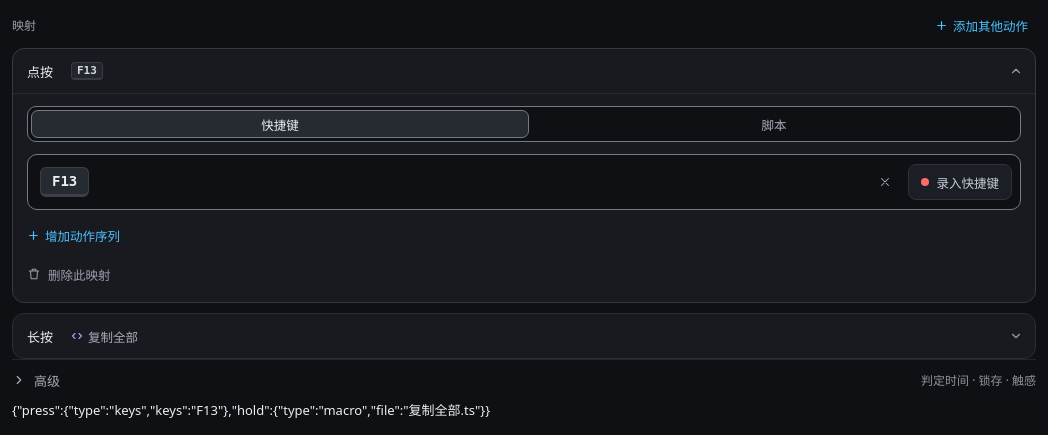
Test: only keeps one mapping open and lets the user close it
Click the button "长按 复制全部" at (113, 337), box [13, 314, 1035, 358]
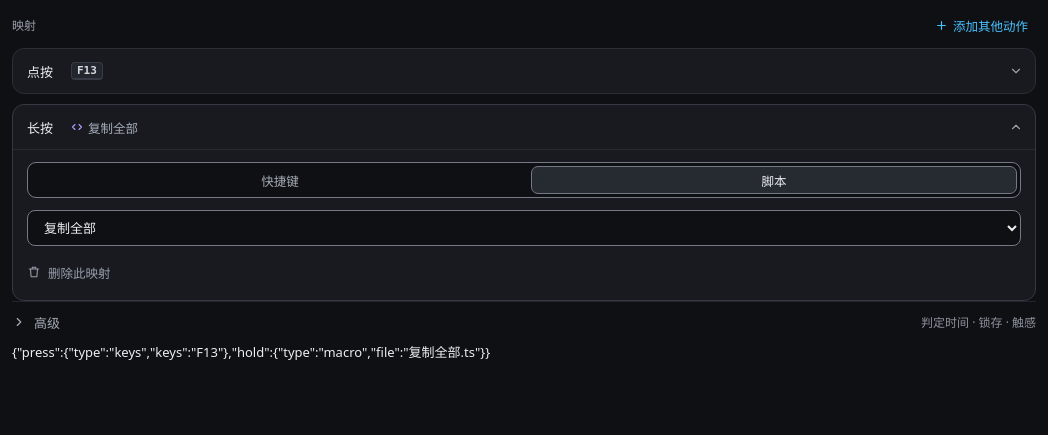
Expected: the number of elements with test id "action-type" is 1, [27, 162, 1021, 198]
Now the button "点按 F13" is collapsed, box [13, 49, 1035, 93]
Now the button "长按 复制全部" is expanded
Click the button "长按 复制全部" at (113, 128), box [13, 105, 1035, 149]
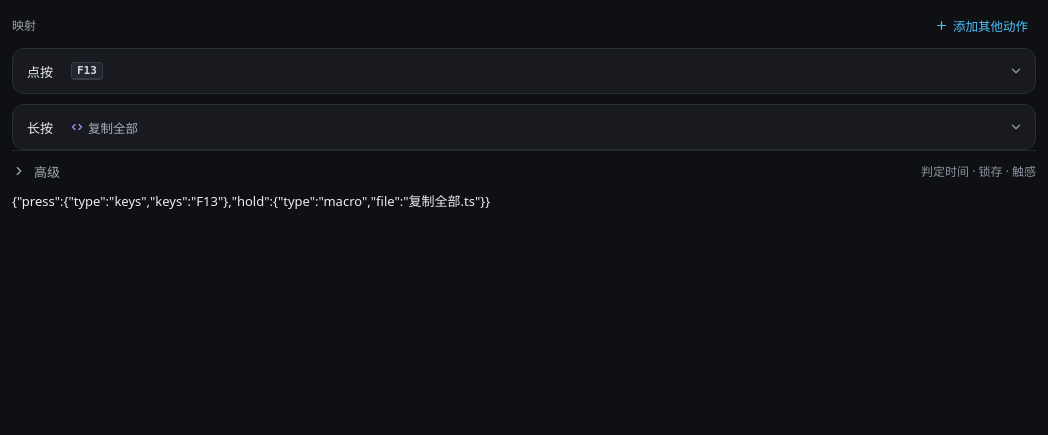
Now the element with test id "action-type" is gone
